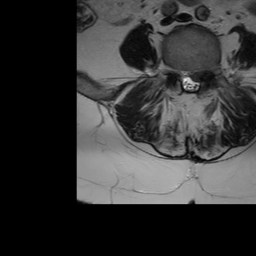CCS_normal: (186, 61, 194, 98)
LFS_stenosis: (201, 59, 209, 84)
LLS_normal: (194, 63, 201, 95)
RFS_stenosis: (171, 59, 179, 83)
RLS_normal: (179, 61, 186, 93)
